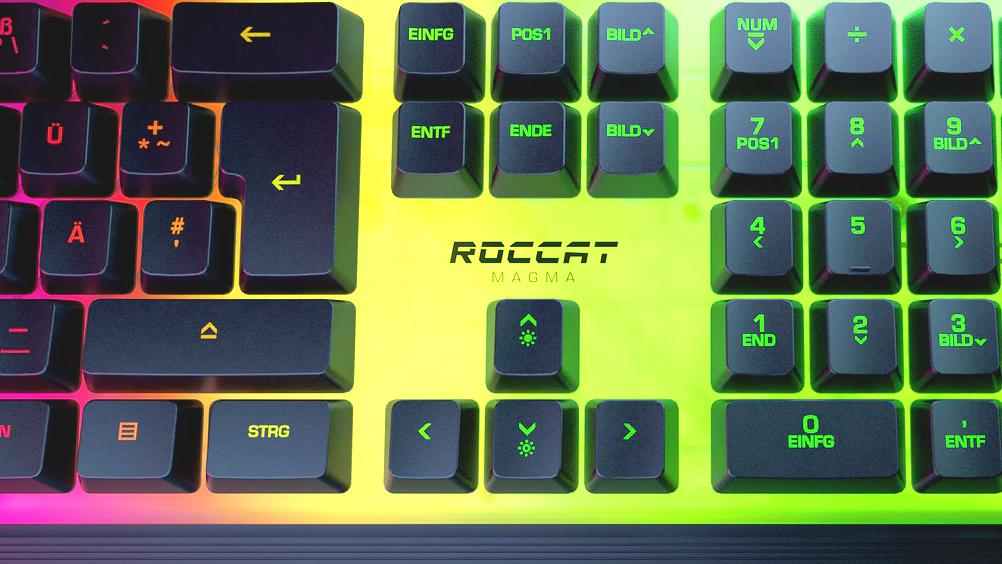accent: (68, 1, 142, 73)
ae: (37, 195, 112, 277)
del: (167, 1, 341, 74)
enter: (217, 93, 341, 286)
hash: (137, 196, 213, 277)
minus: (1, 293, 55, 376)
plus: (116, 97, 188, 174)
shift-right: (76, 294, 339, 377)
ss: (1, 1, 39, 74)
strg-right: (201, 395, 336, 483)
ue: (16, 97, 89, 174)
